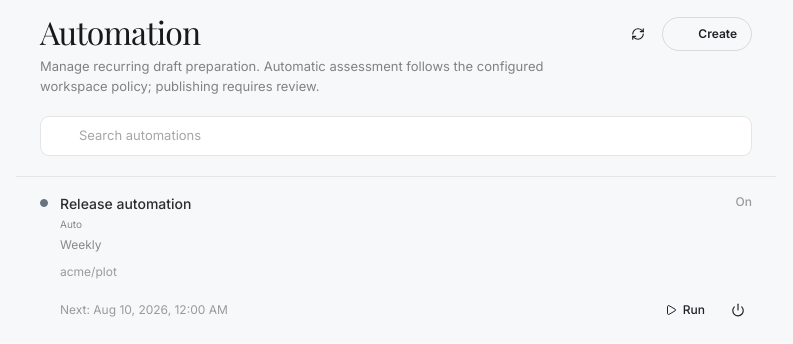
Scenario: RoutinesWorkspace › keeps an in-progress run disabled until an explicit refresh settles it
Step 1. Click the button "Run" → click(685, 310), box 650,293 -> 720,327
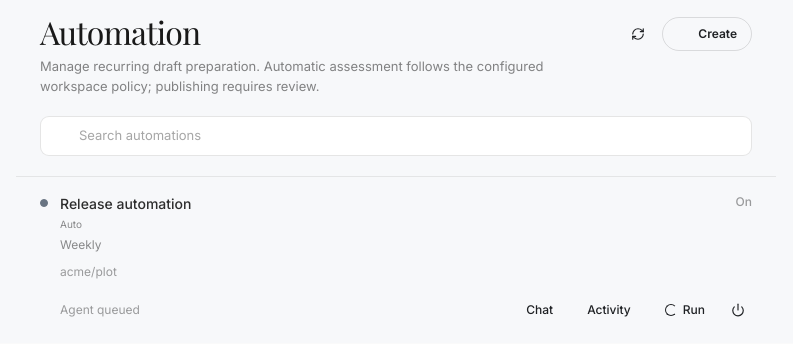
Check: the text "Agent queued" is shown, box 60,301 -> 140,319
Check: the button "Run" is disabled, box 650,293 -> 720,327
Step 2. Click the button named "Refresh automations" → click(638, 34), box 620,16 -> 656,52
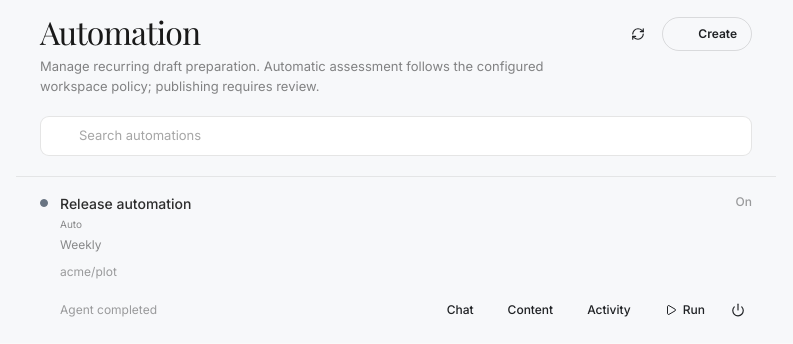
Check: the text "Agent completed" is shown, box 60,301 -> 157,319
Check: the button "Run" is enabled, box 650,293 -> 720,327
